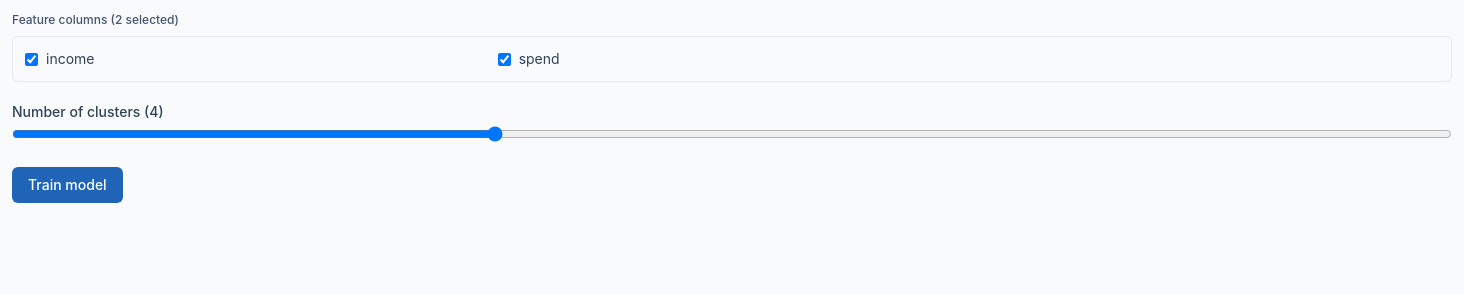
Test: SegmentationConfigForm › shows the real backend error when training fails
The width and height of the screenshot is (1464, 294).
Step 1. Click the button "Train model" → x=67, y=185, box [12, 167, 123, 203]
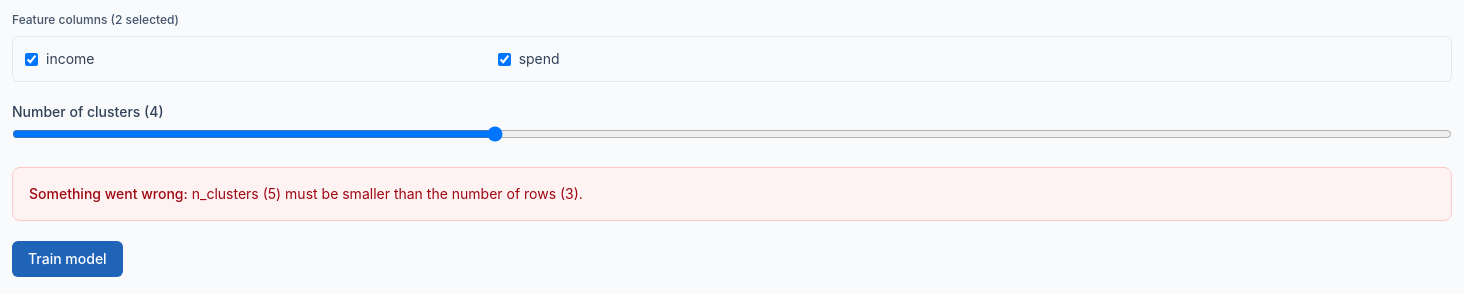
Check: the text "must be smaller than the number of rows" is shown, box [192, 185, 583, 202]
